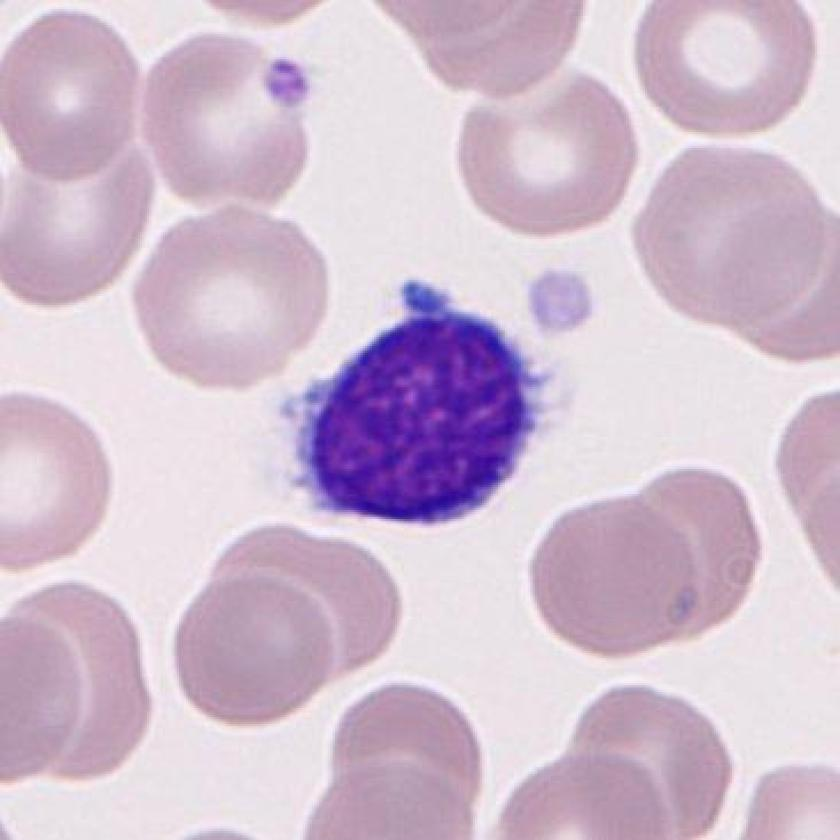lymphocyte: (274, 263, 566, 556)
